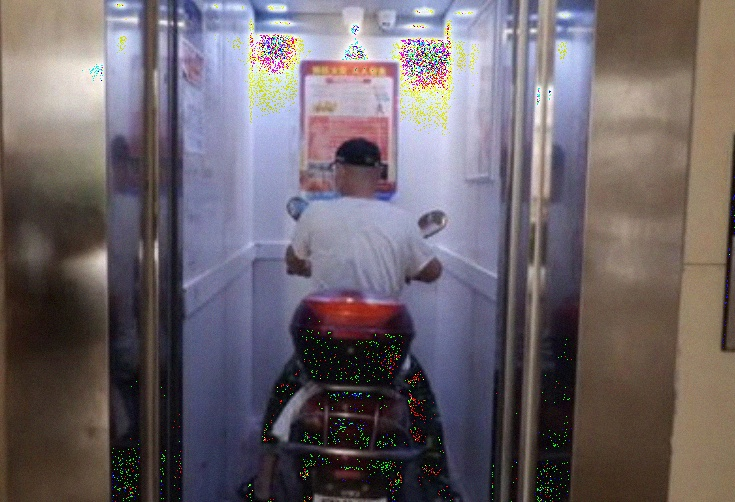ebike: (280, 193, 447, 502)
person: (239, 130, 458, 502)
